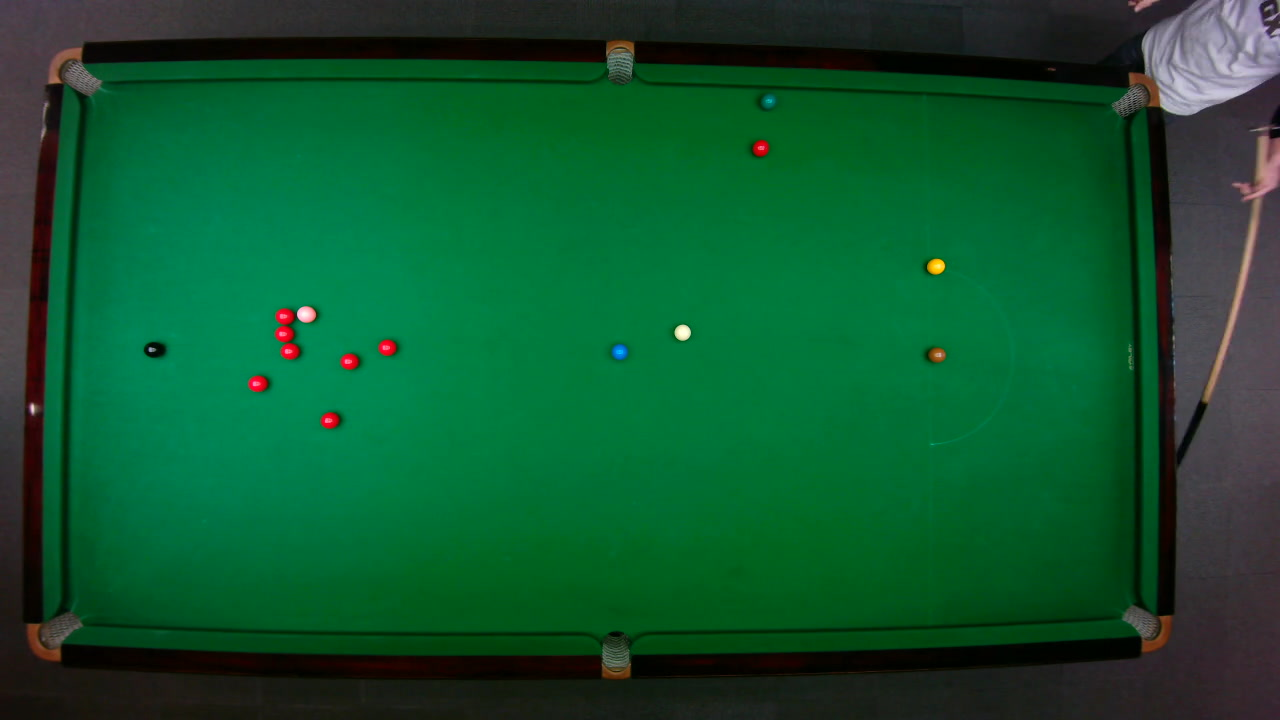bag: (25, 609, 83, 661), (45, 46, 102, 96), (1119, 603, 1172, 652), (1109, 72, 1159, 118), (600, 629, 630, 680), (605, 38, 633, 85)
black: (142, 340, 164, 357)
blue: (610, 342, 627, 360)
brown: (926, 346, 946, 362)
green: (759, 92, 776, 110)
pink: (294, 304, 317, 323)
red: (318, 410, 340, 429), (246, 374, 269, 392), (750, 138, 770, 157), (273, 306, 294, 324), (278, 342, 300, 359), (272, 325, 294, 342), (377, 338, 397, 356), (338, 352, 359, 369)
white: (672, 323, 691, 341)
yellow: (925, 256, 946, 274)
zone: (927, 266, 1013, 445)
